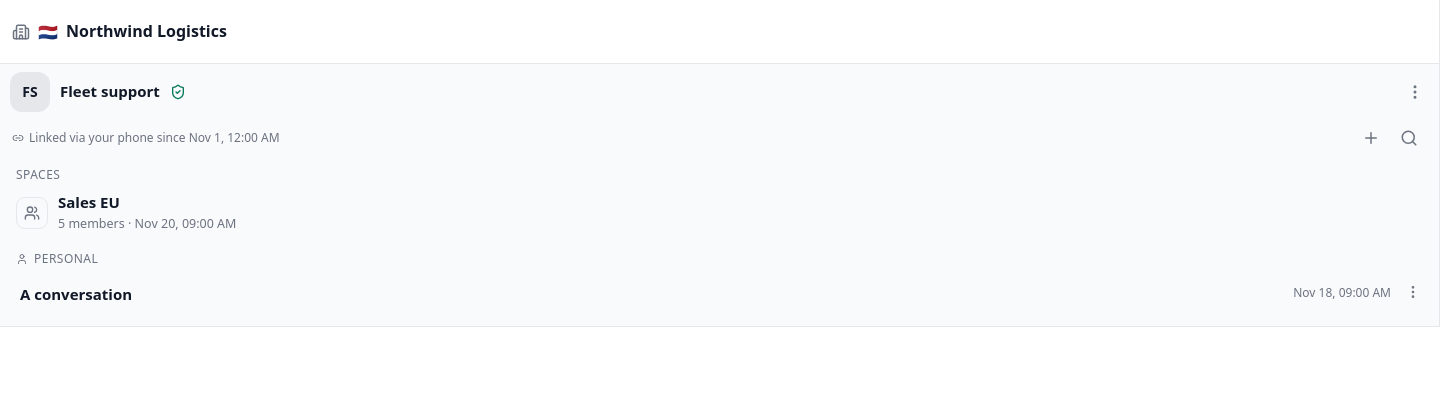
Test: Show Admin waits for the phone (UI-ADMIN-002) › once confirmed, shows the ADMIN area above the spaces, and the entry reads Hide Admin
Click the 1st button named "Agent options".
click(1415, 92)  # box [1397, 74, 1433, 110]
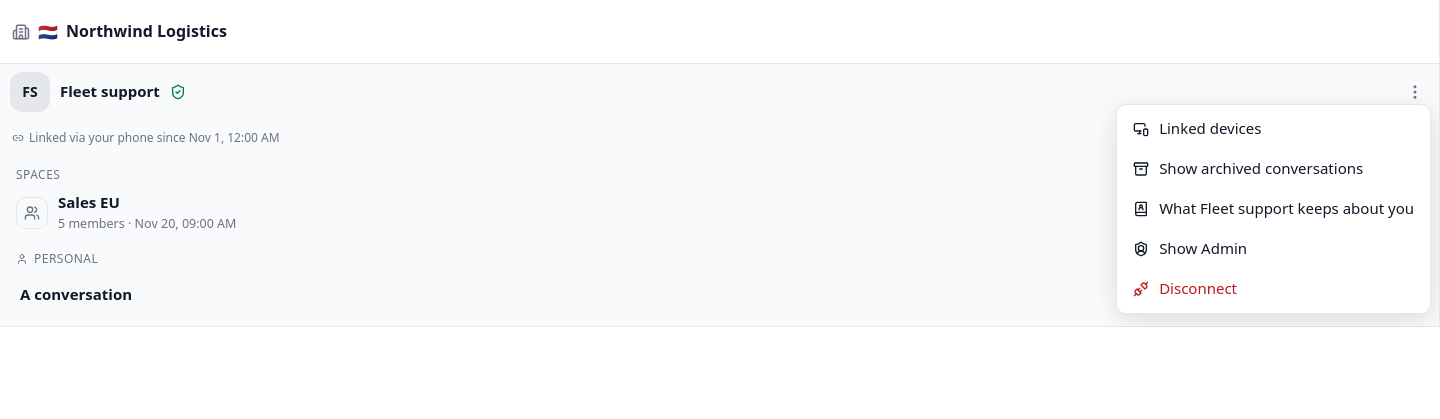
Click the menu item "Show Admin".
click(1203, 248)  # box [1121, 229, 1426, 269]
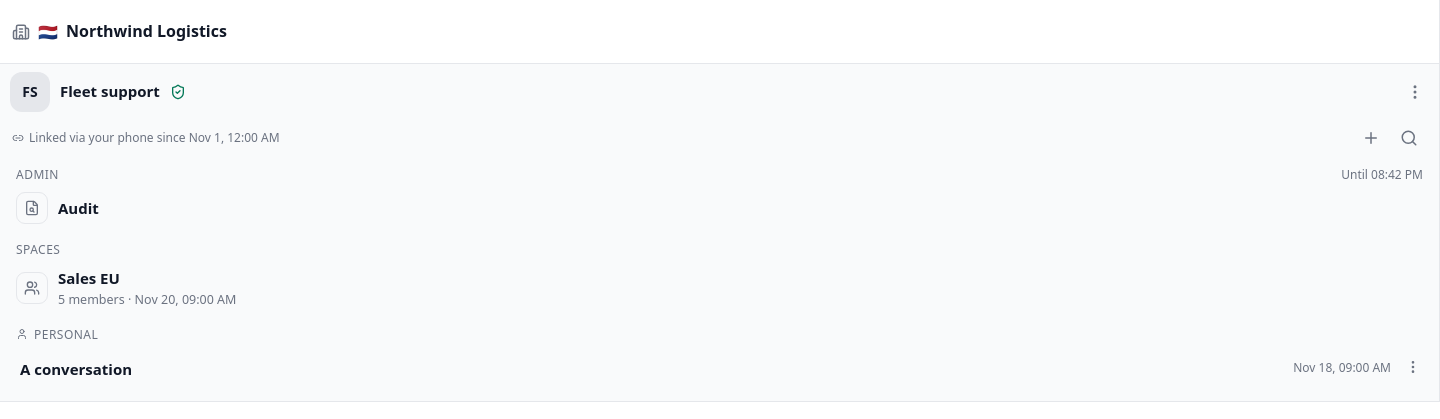
expect the element with class "admin-area" is shown: met, box [8, 162, 1431, 231]
expect the element with class "section-label" shows "Admin": met, box [16, 166, 59, 183]
expect the text "Audit" is shown: met, box [58, 198, 99, 218]
Click the 1st button named "Agent options".
click(1415, 92)  # box [1397, 74, 1433, 110]
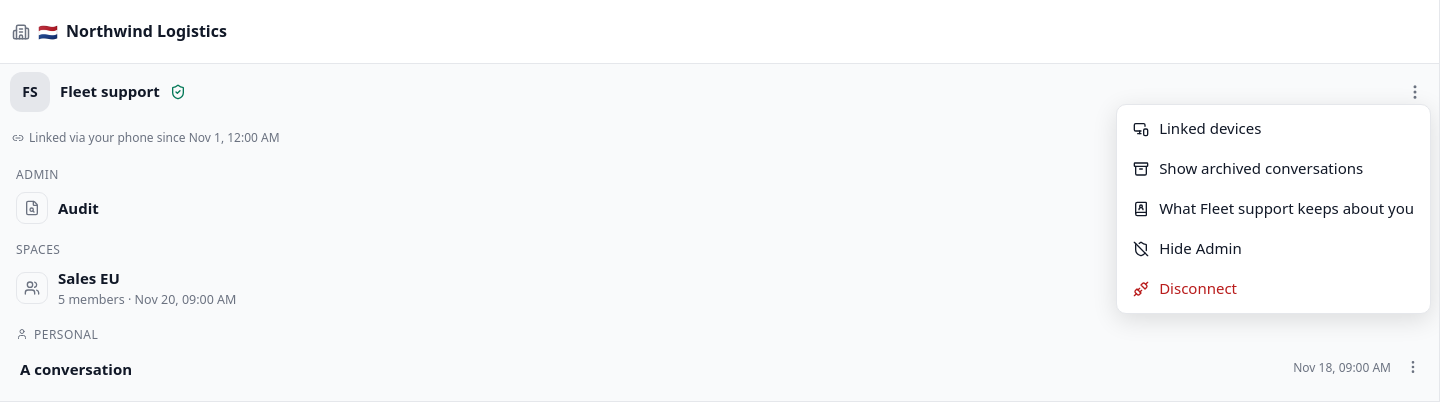
expect the menu item "Hide Admin" is shown: met, box [1121, 229, 1426, 269]
